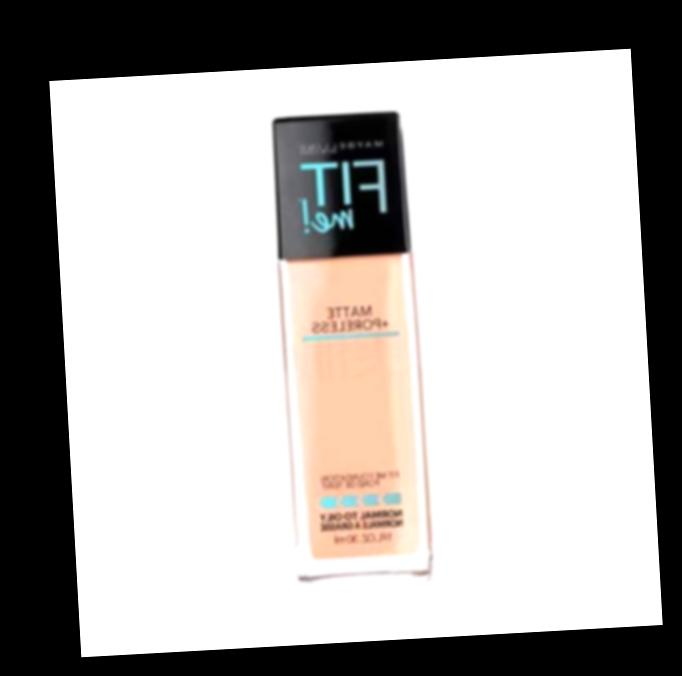cosmetic: (269, 110, 426, 591)
